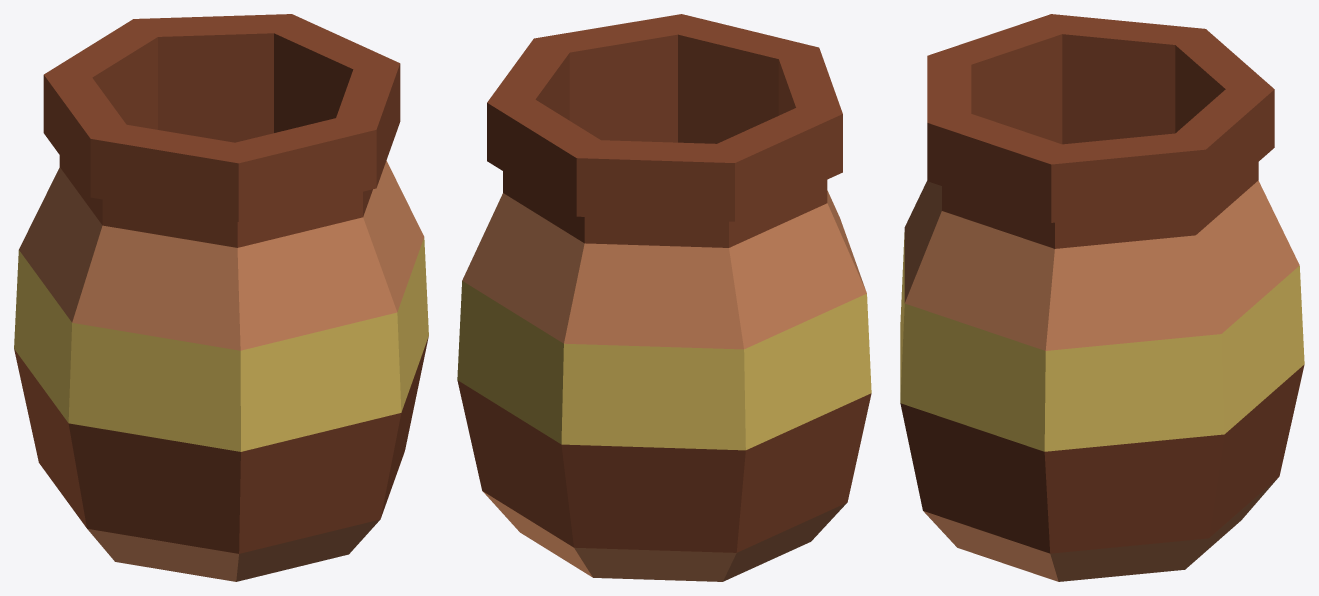
Rendered from honey.fbx.
3 views of the same model, side by side, from view 1: azimuth 30°, elevation 25°; view 2: azimuth 150°, elevation 25°; view 3: azimuth 270°, elevation 25° (orthographic).
Parts seen in each view (by area): view 1: Cylinder; view 2: Cylinder; view 3: Cylinder.
Part boxes in pixels (bbox=[...]): Cylinder: bbox=[14, 14, 428, 581]; Cylinder: bbox=[457, 14, 871, 581]; Cylinder: bbox=[900, 14, 1304, 581].
Bounding box in the file's own units: 221 × 254 × 215.
